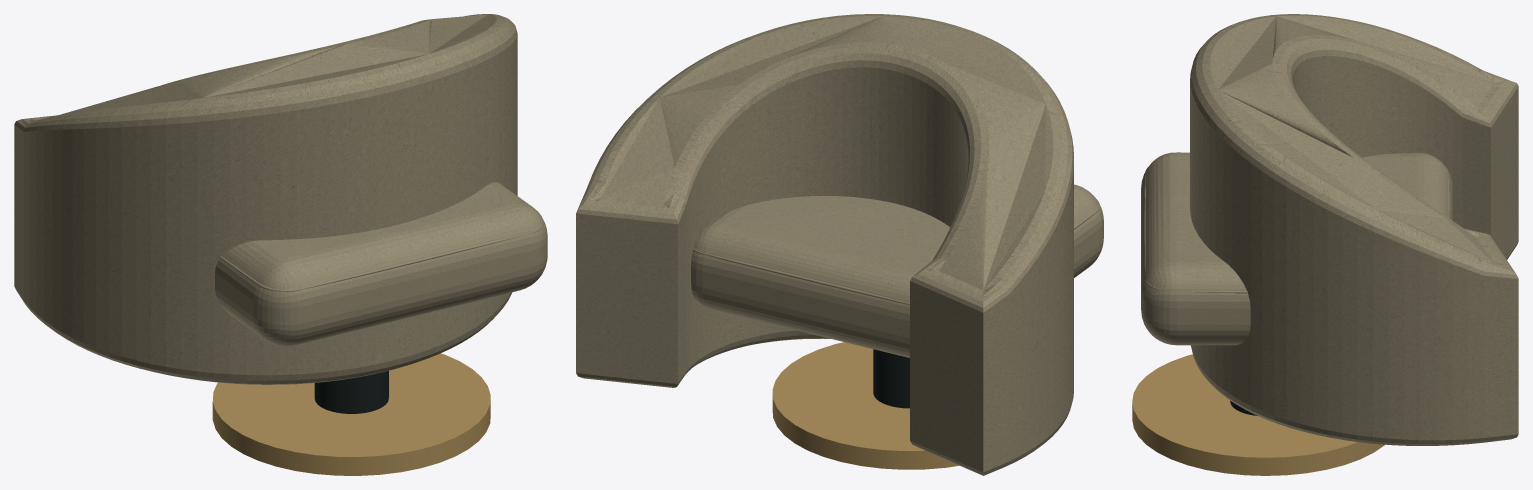
The model's file is luxury-boucle-swivel.glb.
3 renders of one model, left to right at view 1: azimuth 30°, elevation 25°; view 2: azimuth 150°, elevation 25°; view 3: azimuth 270°, elevation 25°, orthographic. The views are drawn at different scales.
Visible parts, largest first — view 1: linen_0, bronze_2, dark_3; view 2: linen_0, bronze_2, dark_3; view 3: linen_0, bronze_2.
Boxes of the visible parts, x1,y1,x2,y2 form: linen_0: (14, 14, 547, 384); bronze_2: (212, 353, 490, 475); dark_3: (314, 371, 388, 413); linen_0: (576, 14, 1103, 475); bronze_2: (772, 342, 959, 469); dark_3: (873, 349, 909, 408); linen_0: (1141, 14, 1518, 445); bronze_2: (1132, 354, 1384, 475).
Bounding box in the file's own units: 1.09 × 0.8825 × 0.8679.
3 materials, 1 textured.
